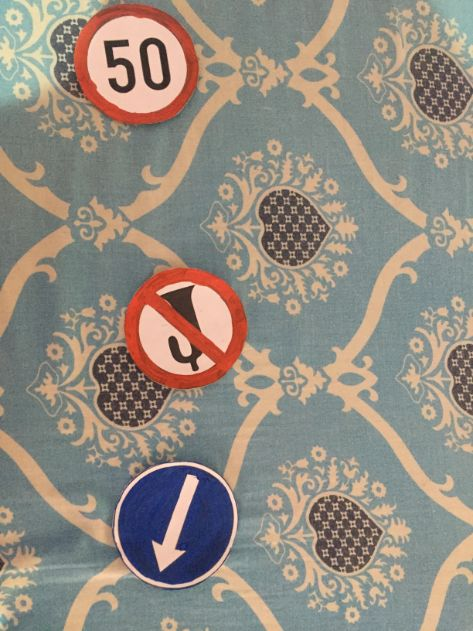go-stright: (112, 458, 243, 591)
no-horn: (124, 265, 248, 390)
speed-50: (70, 5, 202, 128)
